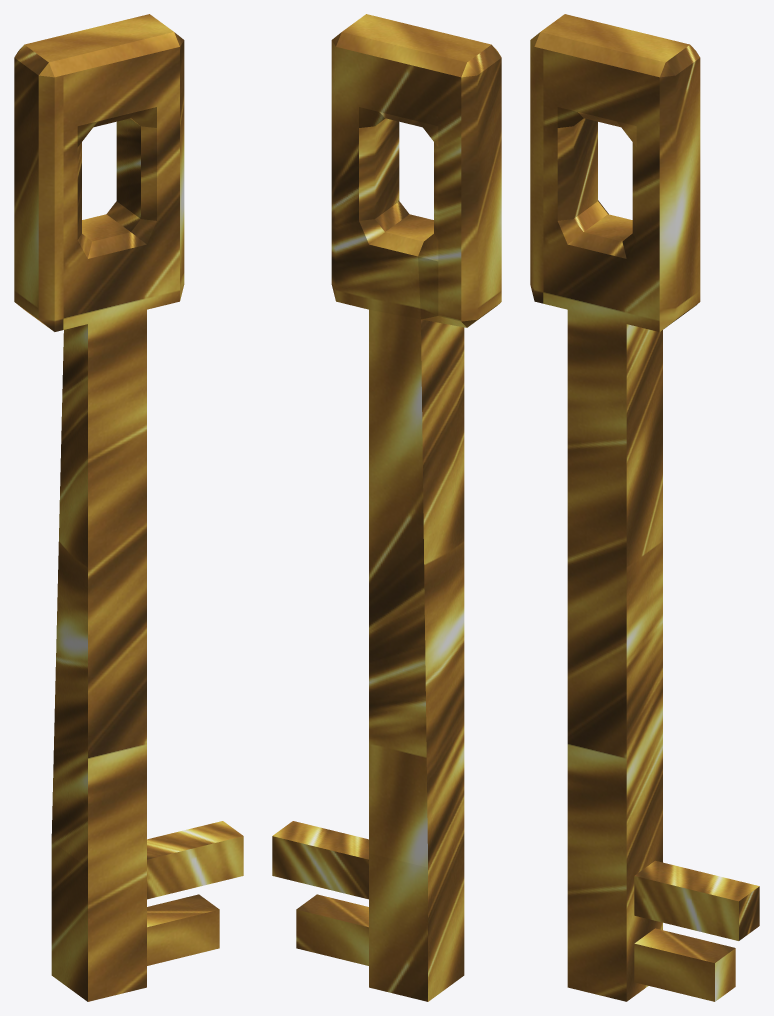
The model's file is chave_ouro.fbx.
The picture shows the model from 3 angles, left to right: view 1: azimuth 30°, elevation 25°; view 2: azimuth 150°, elevation 25°; view 3: azimuth 330°, elevation 25°; orthographic projection.
Visible parts, largest first — view 1: chave; view 2: chave; view 3: chave.
Part boxes in pixels (x1,y1,x2,y2): chave: [14, 14, 243, 1001]; chave: [272, 14, 501, 1001]; chave: [530, 14, 759, 1001].
Size of the model in its own units: 14.44 by 62.93 by 4.38.
Materials: 1 (1 with a texture image).
